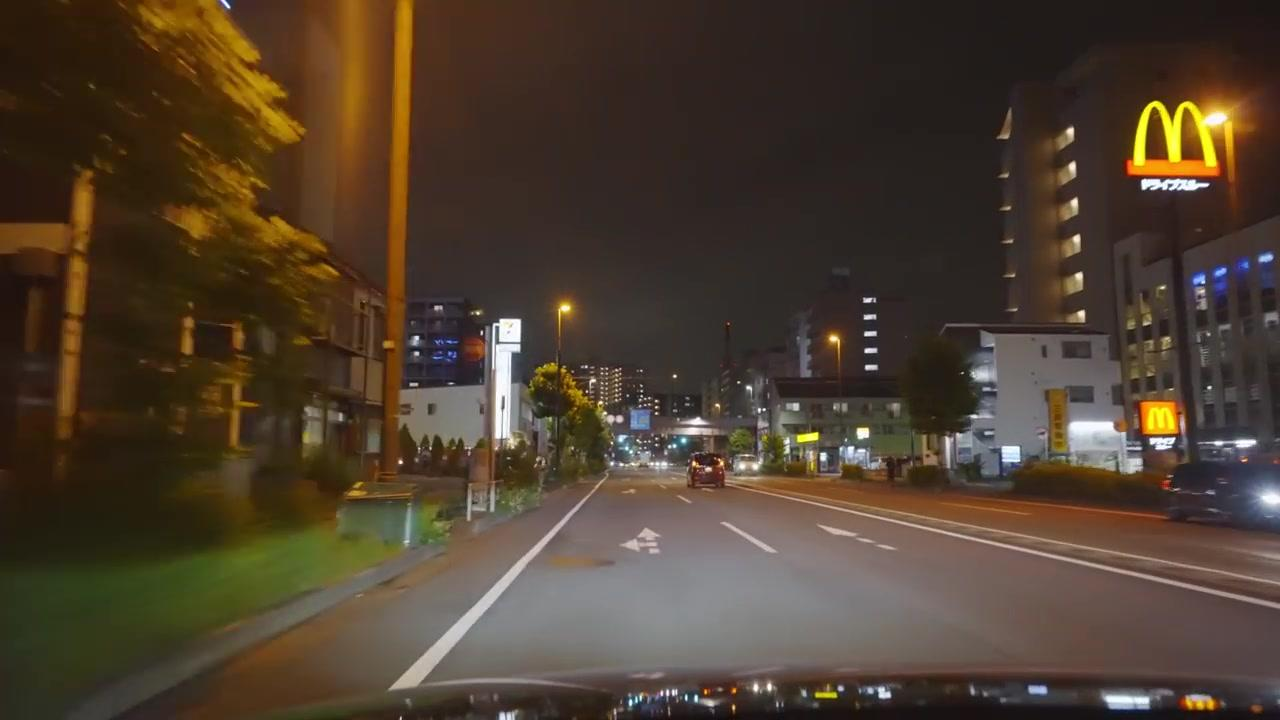car: (1161, 448, 1280, 529), (687, 453, 726, 488)
traffic light: (191, 321, 236, 360), (179, 313, 196, 356)
